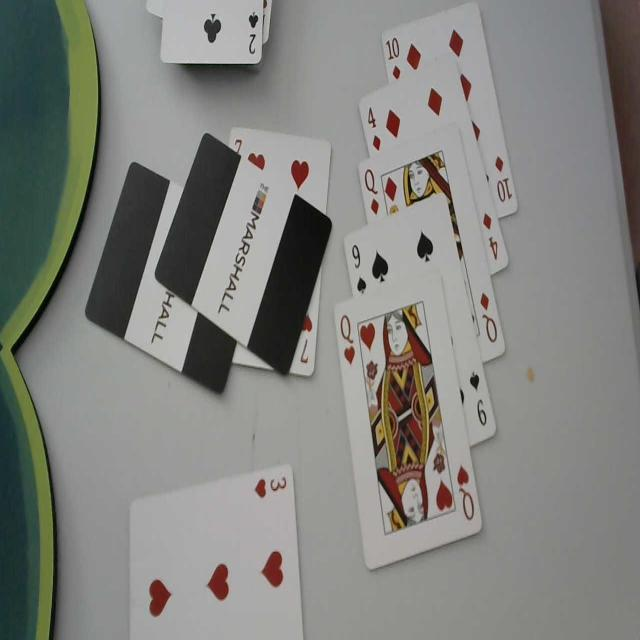10D: (494, 151, 516, 205), (384, 36, 402, 81)
2C: (248, 8, 260, 57)
3H: (253, 473, 291, 502)
4D: (481, 209, 500, 262), (365, 104, 382, 156)
7H: (298, 313, 316, 363)
9S: (466, 367, 488, 427), (350, 243, 368, 296)
QD: (478, 288, 498, 343), (362, 167, 380, 224)
QH: (455, 460, 477, 522), (338, 312, 356, 369)
